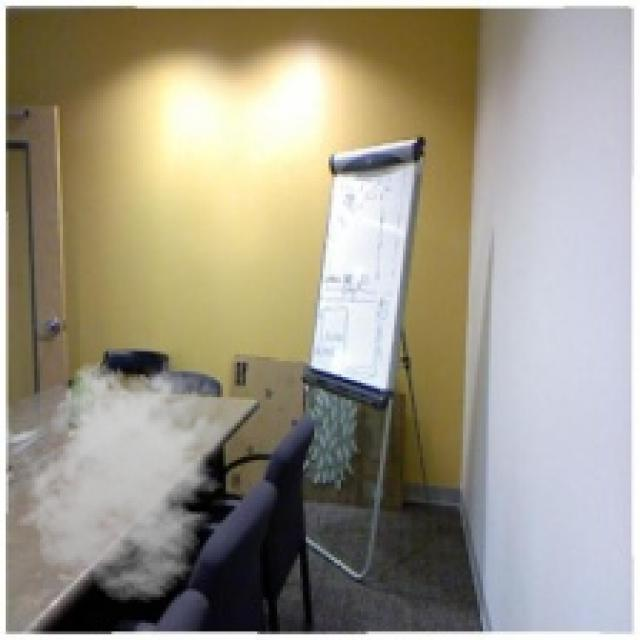smoke: (20, 354, 237, 603)
